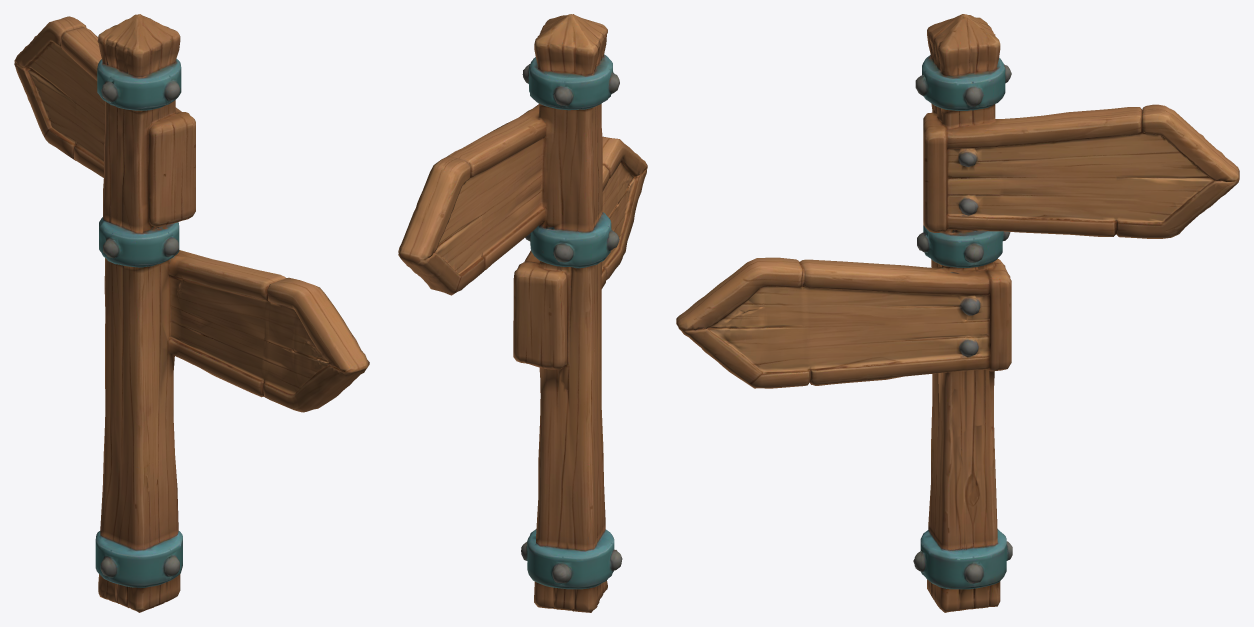
File: pack-signpost.glb
3 views of the same model, side by side, from view 1: azimuth 30°, elevation 25°; view 2: azimuth 150°, elevation 25°; view 3: azimuth 270°, elevation 25° (orthographic).
Visible parts, largest first — view 1: tripo_node_2673f52c-cd66-4b44-b2a4-4c239f897e10; view 2: tripo_node_2673f52c-cd66-4b44-b2a4-4c239f897e10; view 3: tripo_node_2673f52c-cd66-4b44-b2a4-4c239f897e10.
Part boxes in pixels (x1,y1,x2,y2): tripo_node_2673f52c-cd66-4b44-b2a4-4c239f897e10: [14, 14, 369, 612]; tripo_node_2673f52c-cd66-4b44-b2a4-4c239f897e10: [398, 14, 647, 612]; tripo_node_2673f52c-cd66-4b44-b2a4-4c239f897e10: [676, 14, 1239, 612].
Bounding box in the file's own units: 0.2387 × 0.976 × 0.8538.
Materials: 1 (1 with a texture image).
